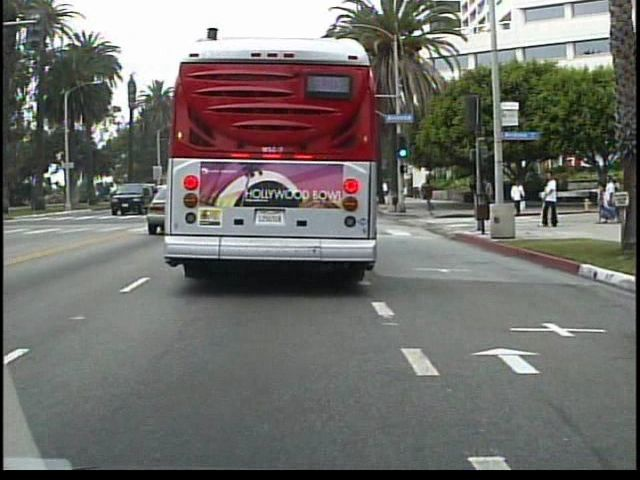person: (541, 168, 563, 227), (480, 173, 498, 215), (422, 177, 438, 217), (512, 178, 528, 209)
